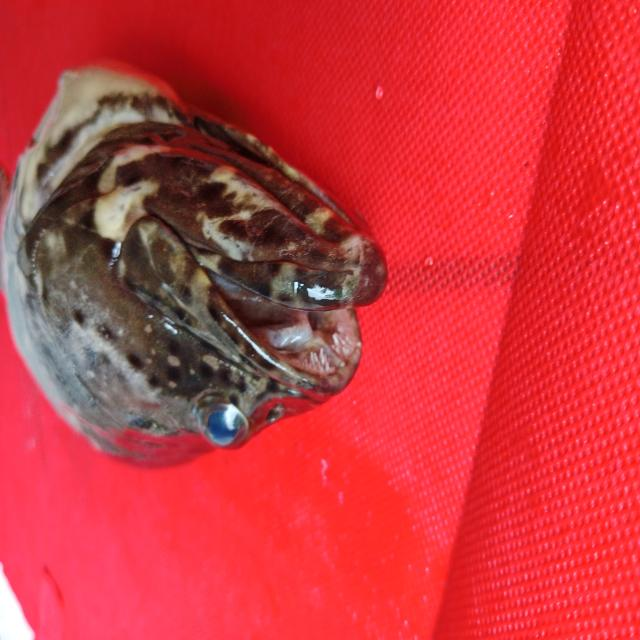ikan: (14, 38, 405, 494)
